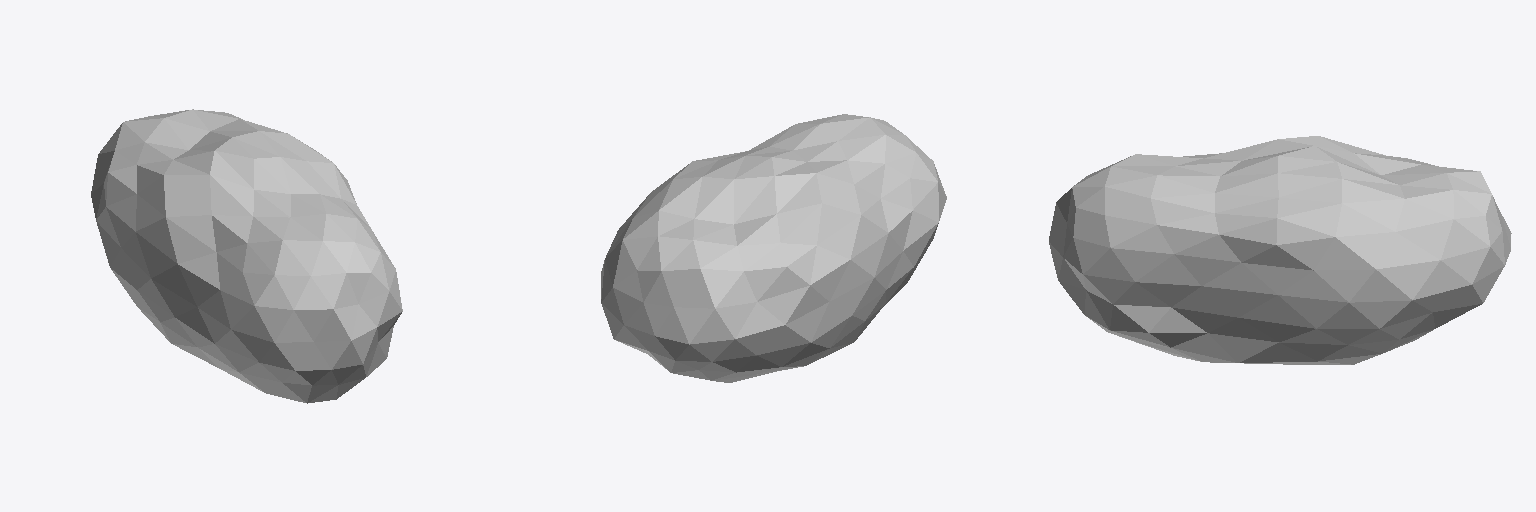
The model's file is RockB.obj.
The picture shows the model from 3 angles: view 1: azimuth 30°, elevation 25°; view 2: azimuth 150°, elevation 25°; view 3: azimuth 270°, elevation 25°; orthographic projection.
Visible parts, largest first — view 1: Rock2_Icosphere.002; view 2: Rock2_Icosphere.002; view 3: Rock2_Icosphere.002.
Part boxes in pixels (x1,y1,x2,y2): Rock2_Icosphere.002: (91, 109, 402, 403); Rock2_Icosphere.002: (601, 114, 946, 382); Rock2_Icosphere.002: (1049, 136, 1511, 364).
Bounding box in the file's own units: 2.09 × 1.87 × 3.97.